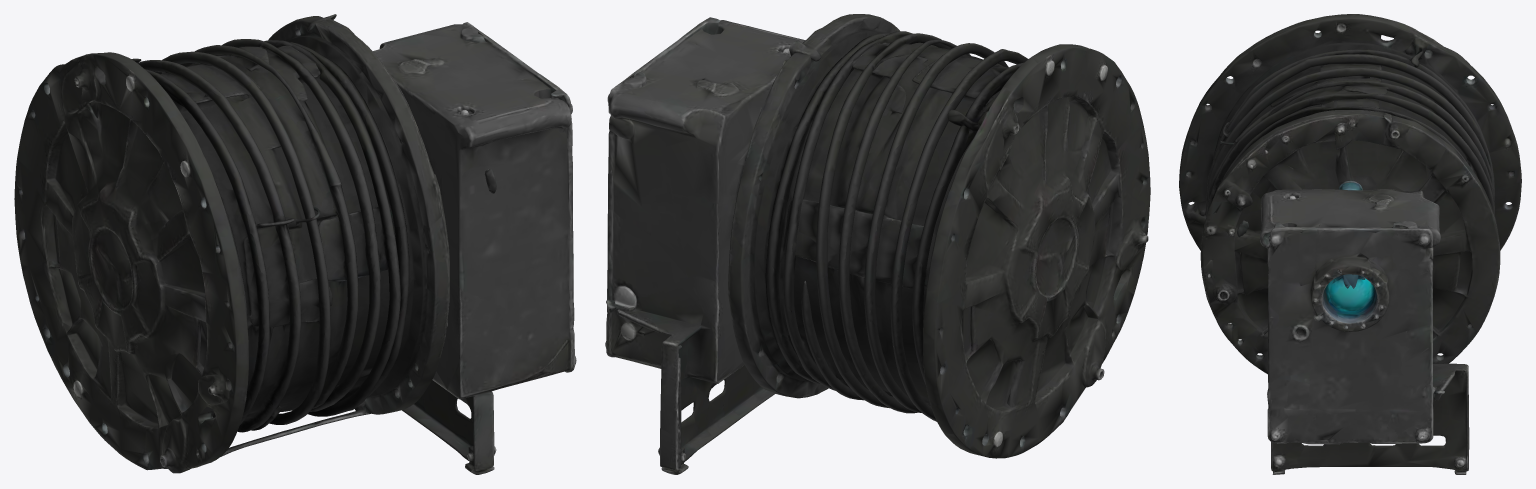
3 views of the same model, side by side, from view 1: azimuth 30°, elevation 25°; view 2: azimuth 150°, elevation 25°; view 3: azimuth 270°, elevation 25° (orthographic). The views are drawn at different scales.
Parts seen in each view (by area): view 1: tripo_node_3234f9cb-97e4-4a5a-815f-6faa10c277bd; view 2: tripo_node_3234f9cb-97e4-4a5a-815f-6faa10c277bd; view 3: tripo_node_3234f9cb-97e4-4a5a-815f-6faa10c277bd.
Part boxes in pixels (left/top/right/bottom): tripo_node_3234f9cb-97e4-4a5a-815f-6faa10c277bd: left=14, top=14, right=576, bottom=474; tripo_node_3234f9cb-97e4-4a5a-815f-6faa10c277bd: left=605, top=14, right=1150, bottom=474; tripo_node_3234f9cb-97e4-4a5a-815f-6faa10c277bd: left=1179, top=14, right=1521, bottom=474.
Bounding box in the file's own units: 0.9997 × 0.9836 × 0.8895.
1 material, 1 textured.
